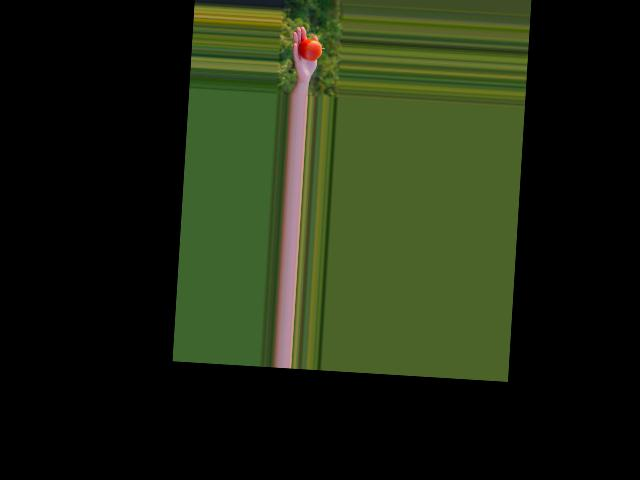tomato: (297, 38, 322, 61)
